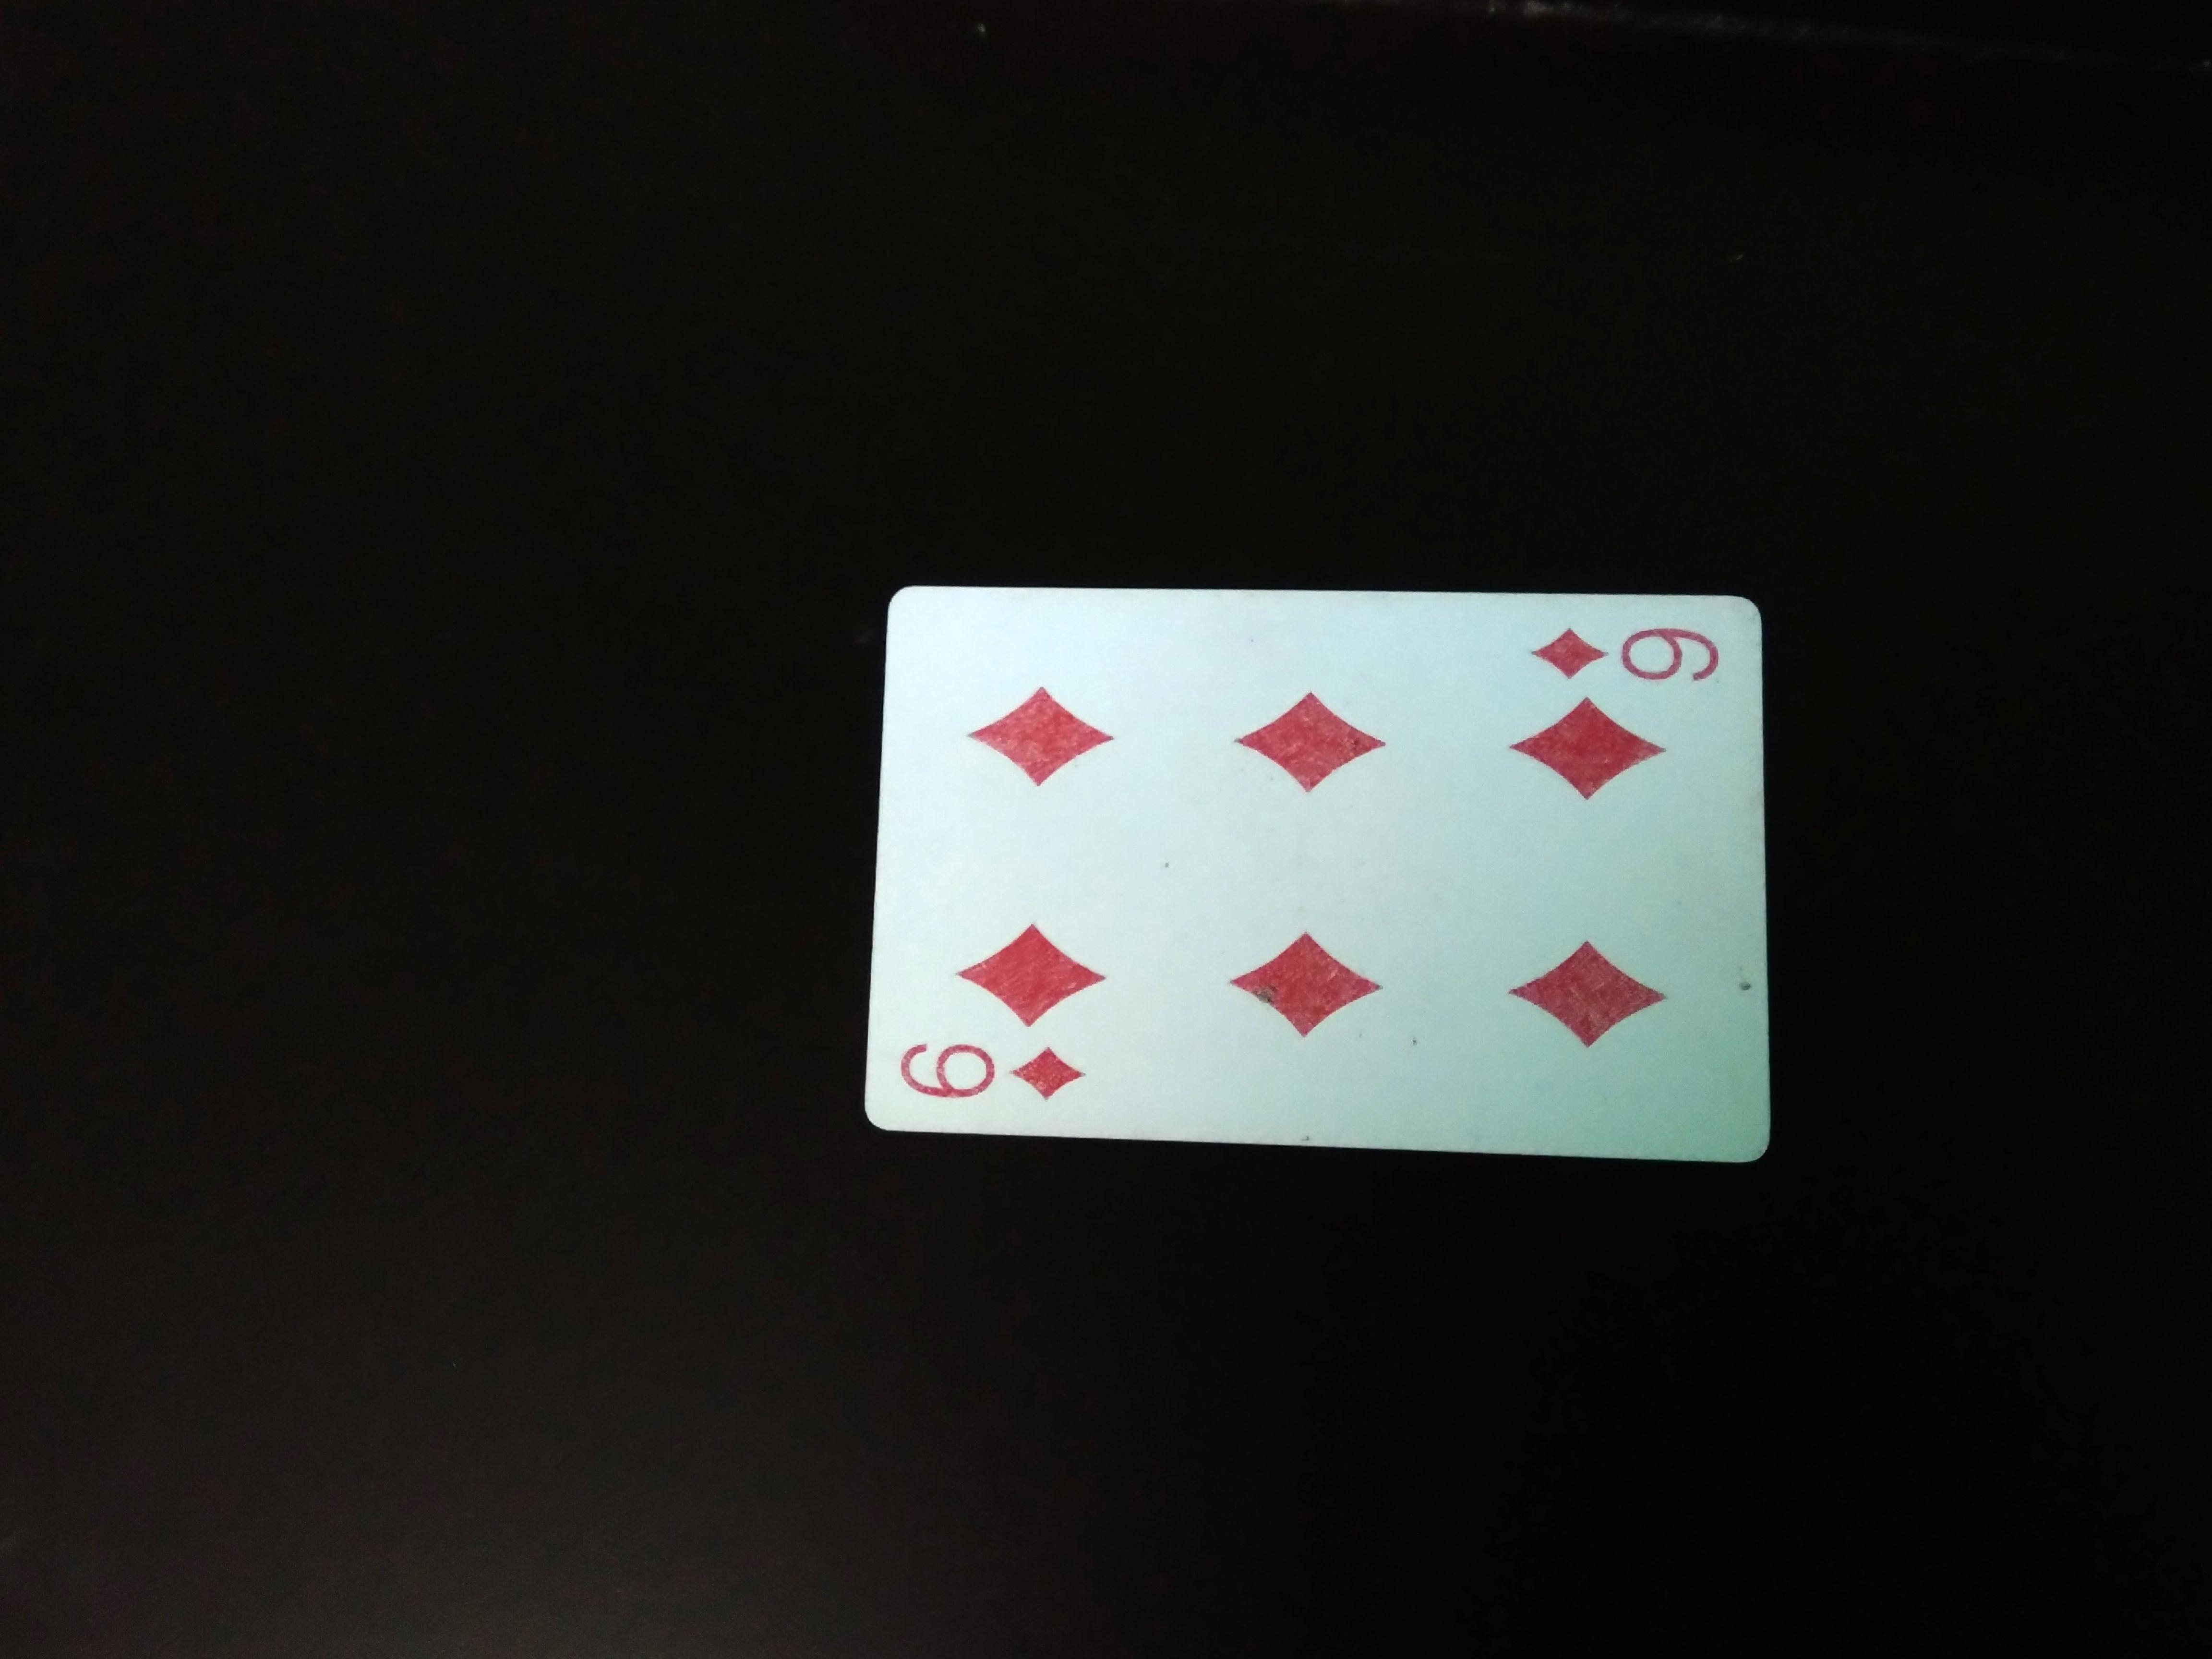6D: (888, 1035, 1090, 1129)
